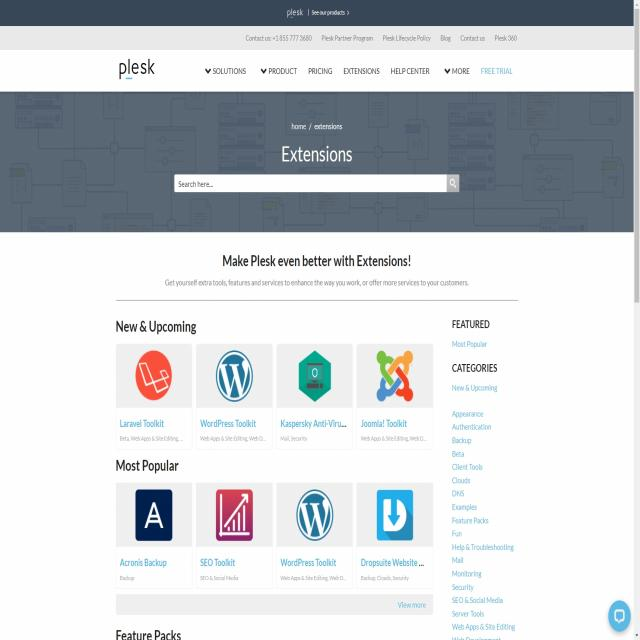menu-bar: (200, 54, 519, 84)
search: (170, 167, 464, 199)
side-panel: (444, 310, 518, 639)
